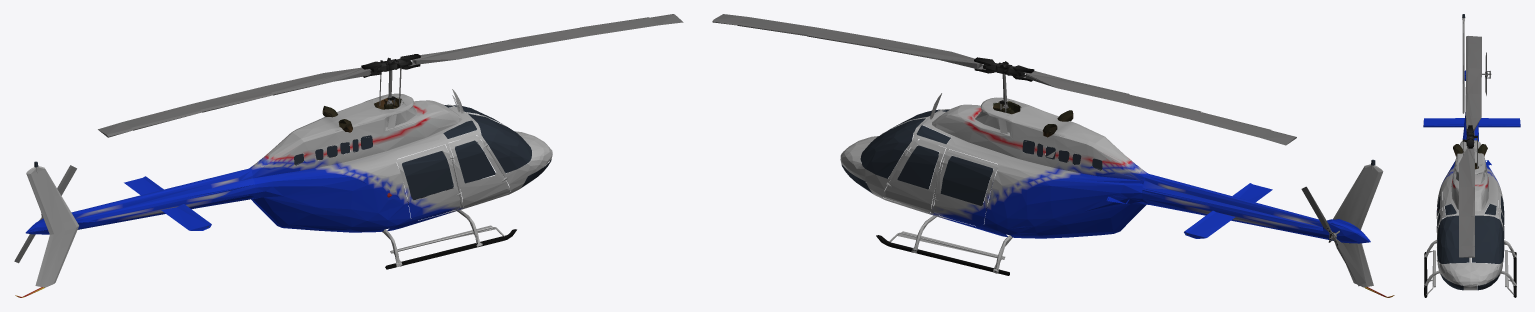
File: heli.glb
3 views of the same model, side by side, from view 1: azimuth 30°, elevation 25°; view 2: azimuth 150°, elevation 25°; view 3: azimuth 270°, elevation 25° (orthographic). The views are drawn at different scales.
Parts seen in each view (by area): view 1: hi, rotor_hi, lo, rotor_lo, tail_hi; view 2: hi, rotor_hi, lo, tail_hi, rotor_lo; view 3: hi, rotor_hi, lo, rotor_lo, tail_hi.
Boxes of the visible parts, x1=… form: hi: x1=15, y1=89, x2=552, y2=297; rotor_hi: x1=98, y1=14, x2=683, y2=137; lo: x1=17, y1=89, x2=541, y2=297; rotor_lo: x1=132, y1=54, x2=420, y2=129; tail_hi: x1=14, y1=165, x2=76, y2=263; hi: x1=840, y1=93, x2=1394, y2=297; rotor_hi: x1=712, y1=14, x2=1296, y2=145; lo: x1=846, y1=94, x2=1393, y2=296; tail_hi: x1=1301, y1=186, x2=1365, y2=286; rotor_lo: x1=974, y1=57, x2=1271, y2=130; hi: x1=1423, y1=14, x2=1520, y2=297; rotor_hi: x1=1459, y1=36, x2=1481, y2=257; lo: x1=1424, y1=74, x2=1519, y2=287; rotor_lo: x1=1462, y1=111, x2=1481, y2=246; tail_hi: x1=1482, y1=52, x2=1491, y2=95.
Size of the model in its own units: 11.77 by 3.04 by 2.02.
